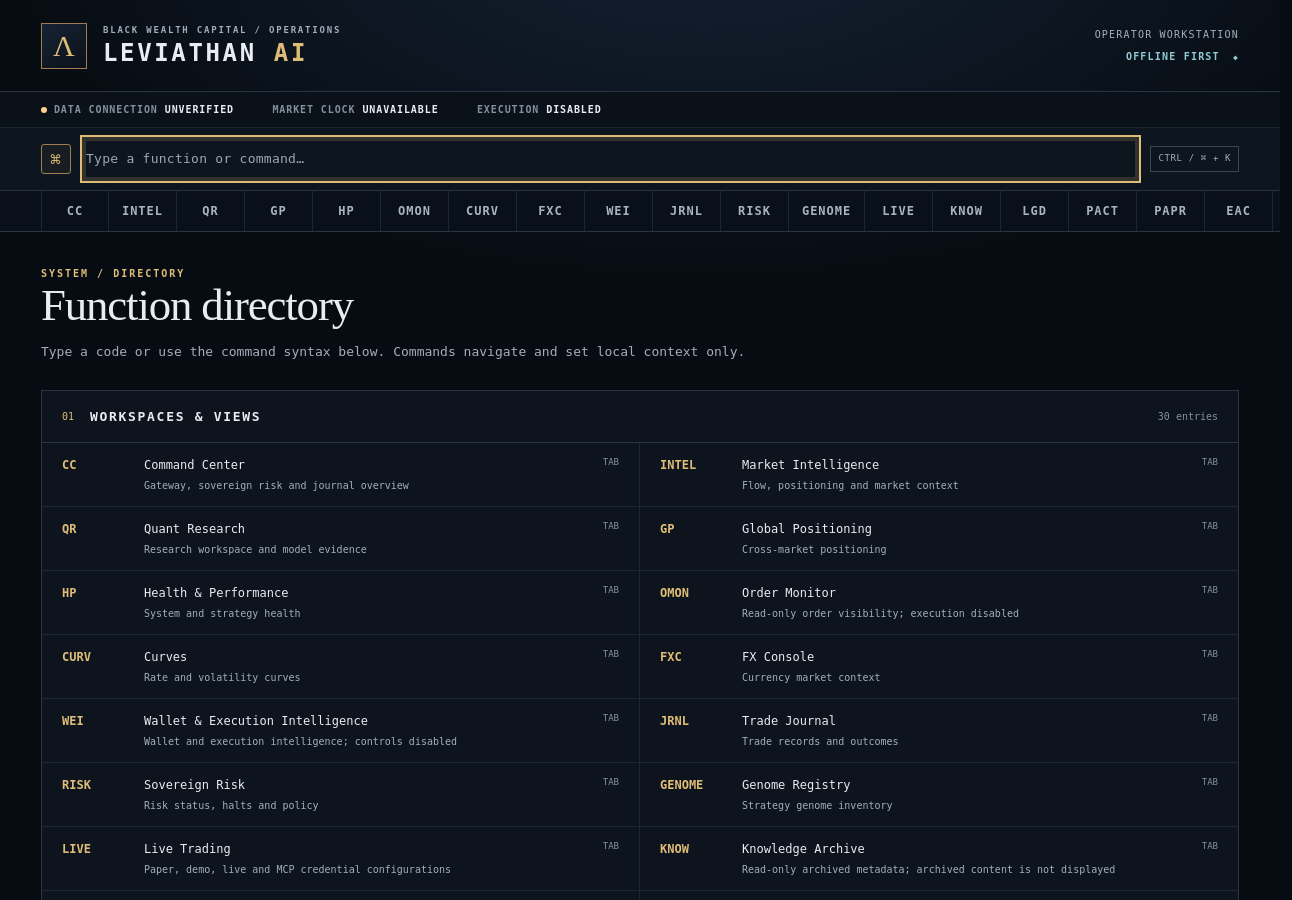
Test: NAV-REGISTER-PAPER-001 independent acceptance › registers EAC as a tab and reaches its view by tab
This screenshot has width=1292, height=900.
Click the tab "EAC": click(1239, 211) [1205,191,1273,231]
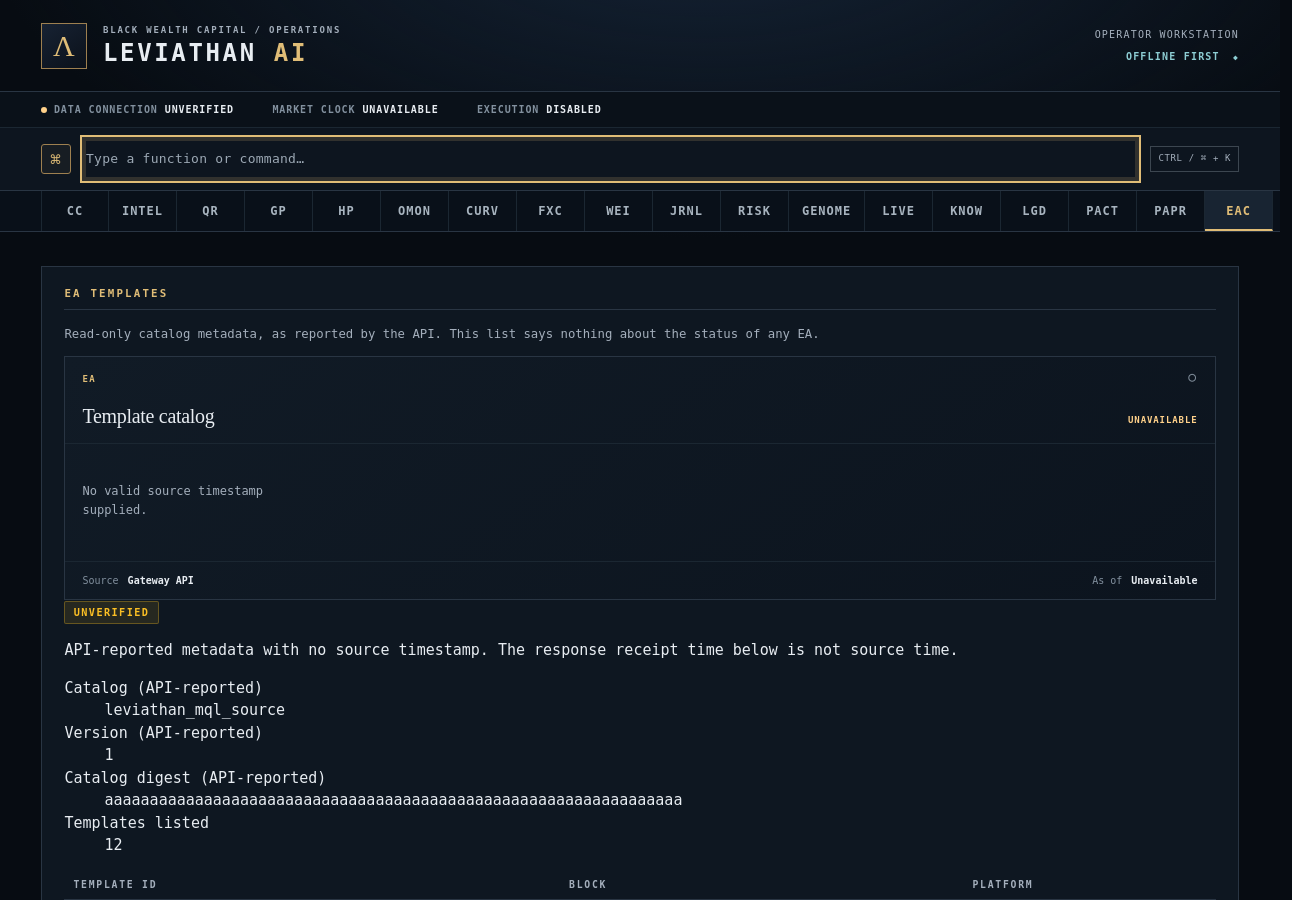
Result: the heading "EA Templates" is shown at [64,286,1216,310]
